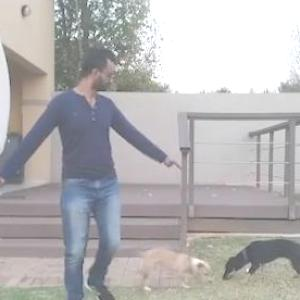land: (1, 14, 212, 299)
